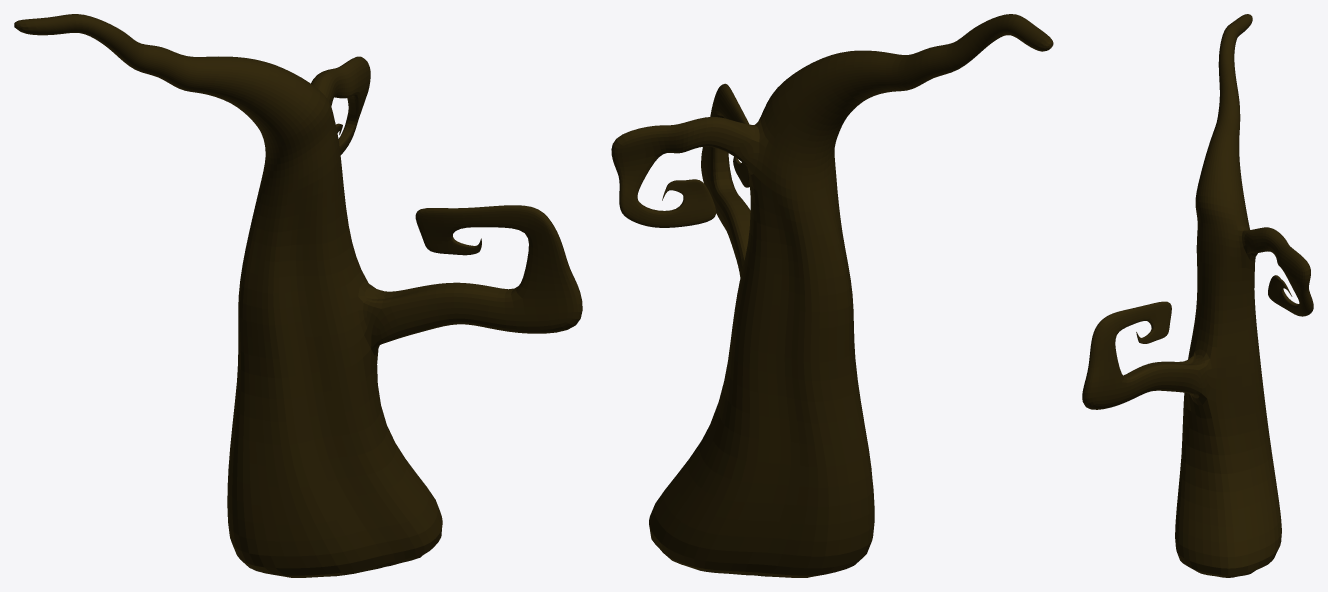
File: spooky_tree.glb
3 views of the same model, side by side, from view 1: azimuth 30°, elevation 25°; view 2: azimuth 150°, elevation 25°; view 3: azimuth 270°, elevation 25° (orthographic). The views are drawn at different scales.
Visible parts, largest first — view 1: SpookyTree; view 2: SpookyTree; view 3: SpookyTree.
Part boxes in pixels (box(x1,y1,x2,y2)): SpookyTree: box(14, 14, 582, 577); SpookyTree: box(611, 14, 1053, 577); SpookyTree: box(1082, 14, 1313, 577).
Size of the model in its own units: 5.46 by 6.96 by 3.35.
